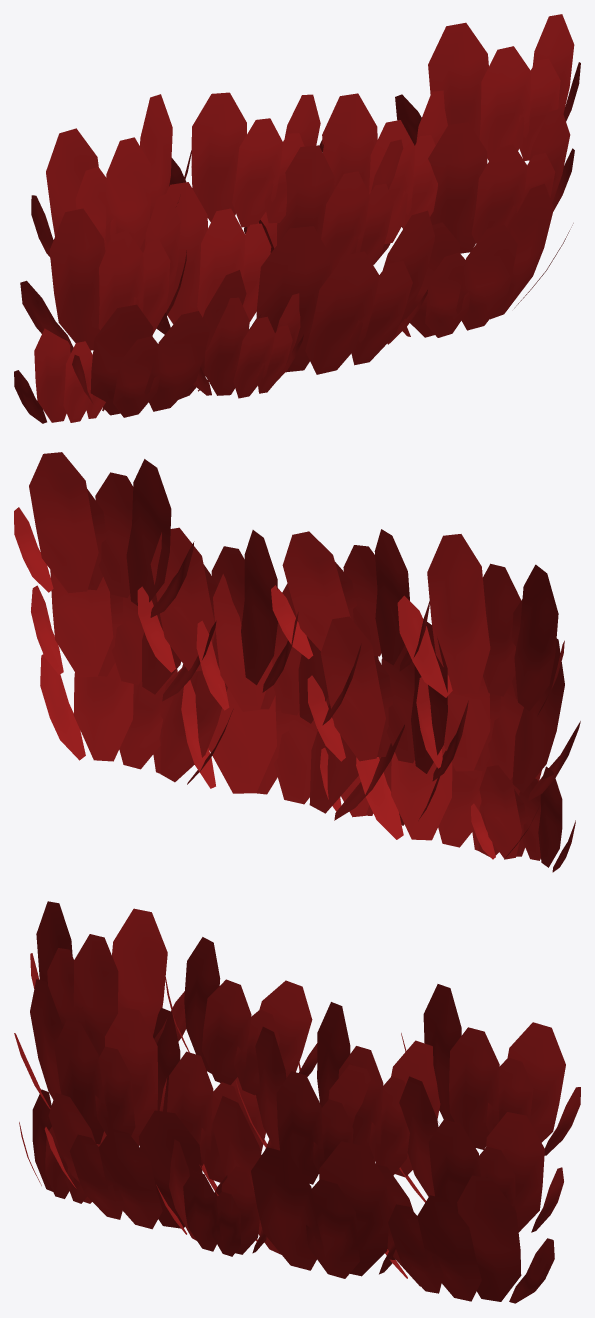
The model's file is hedgeGrass_Solo01.fbx.
3 views of the same model, one above another, from view 1: azimuth 30°, elevation 25°; view 2: azimuth 150°, elevation 25°; view 3: azimuth 330°, elevation 25° (orthographic).
Visible parts, largest first — view 1: hedgeGrass.002, hedgeGrass.005, hedgeGrass.008, hedgeGrass.004, hedgeGrass, hedgeGrass.001, hedgeGrass.010, hedgeGrass.003, hedgeGrass.006, hedgeGrass.009, hedgeGrass.007, hedgeGrass.012 (+1 smaller); view 2: hedgeGrass, hedgeGrass.005, hedgeGrass.007, hedgeGrass.001, hedgeGrass.002, hedgeGrass.009, hedgeGrass.004, hedgeGrass.008, hedgeGrass.010, hedgeGrass.006, hedgeGrass.003, hedgeGrass.013 (+1 smaller); view 3: hedgeGrass.002, hedgeGrass.001, hedgeGrass.005, hedgeGrass, hedgeGrass.008, hedgeGrass.010, hedgeGrass.003, hedgeGrass.004, hedgeGrass.006, hedgeGrass.009, hedgeGrass.007, hedgeGrass.012 (+1 smaller).
Boxes of the visible parts, box(x1,y1,x2,y2) form: hedgeGrass.002: box(256, 210, 434, 374); hedgeGrass.005: box(395, 14, 580, 160); hedgeGrass.008: box(20, 193, 186, 353); hedgeGrass.004: box(169, 92, 323, 227); hedgeGrass: box(31, 94, 191, 257); hedgeGrass.001: box(400, 183, 573, 337); hedgeGrass.010: box(401, 108, 574, 253); hedgeGrass.003: box(72, 270, 260, 417); hedgeGrass.006: box(244, 139, 403, 272); hedgeGrass.009: box(322, 90, 447, 244); hedgeGrass.007: box(156, 182, 277, 334); hedgeGrass.012: box(193, 293, 303, 398); hedgeGrass: box(397, 534, 564, 715); hedgeGrass.005: box(14, 452, 194, 617); hedgeGrass.007: box(307, 616, 468, 781); hedgeGrass.001: box(40, 654, 233, 784); hedgeGrass.002: box(181, 656, 404, 820); hedgeGrass.009: box(137, 527, 298, 692); hedgeGrass.004: box(271, 529, 430, 671); hedgeGrass.008: box(416, 638, 580, 800); hedgeGrass.010: box(31, 570, 216, 701); hedgeGrass.006: box(196, 574, 361, 729); hedgeGrass.003: box(356, 745, 541, 859); hedgeGrass.013: box(471, 765, 575, 872); hedgeGrass.002: box(199, 1096, 395, 1278); hedgeGrass.001: box(377, 1165, 554, 1303); hedgeGrass.005: box(401, 984, 580, 1155); hedgeGrass: box(30, 901, 186, 1057); hedgeGrass.008: box(14, 979, 166, 1145); hedgeGrass.010: box(399, 1076, 563, 1232); hedgeGrass.003: box(44, 1093, 227, 1229); hedgeGrass.004: box(165, 937, 317, 1095); hedgeGrass.006: box(235, 1026, 374, 1184); hedgeGrass.009: box(298, 1002, 445, 1177); hedgeGrass.007: box(153, 1007, 274, 1182); hedgeGrass.012: box(156, 1139, 266, 1256).
Size of the model in its own units: 157 by 84.19 by 21.49.
